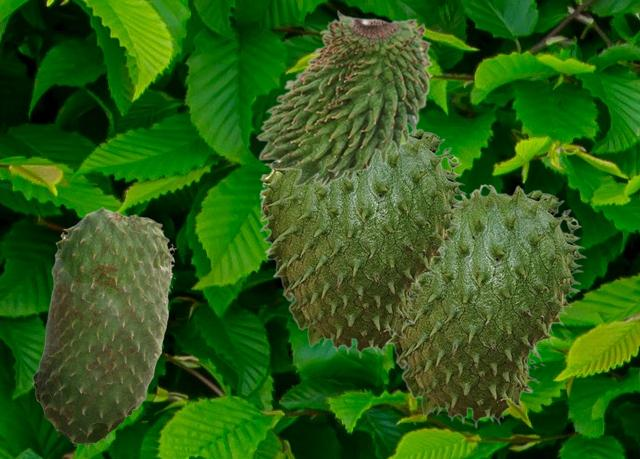guyabano: (387, 183, 586, 428), (259, 128, 466, 358), (31, 206, 175, 447), (255, 9, 432, 186)
